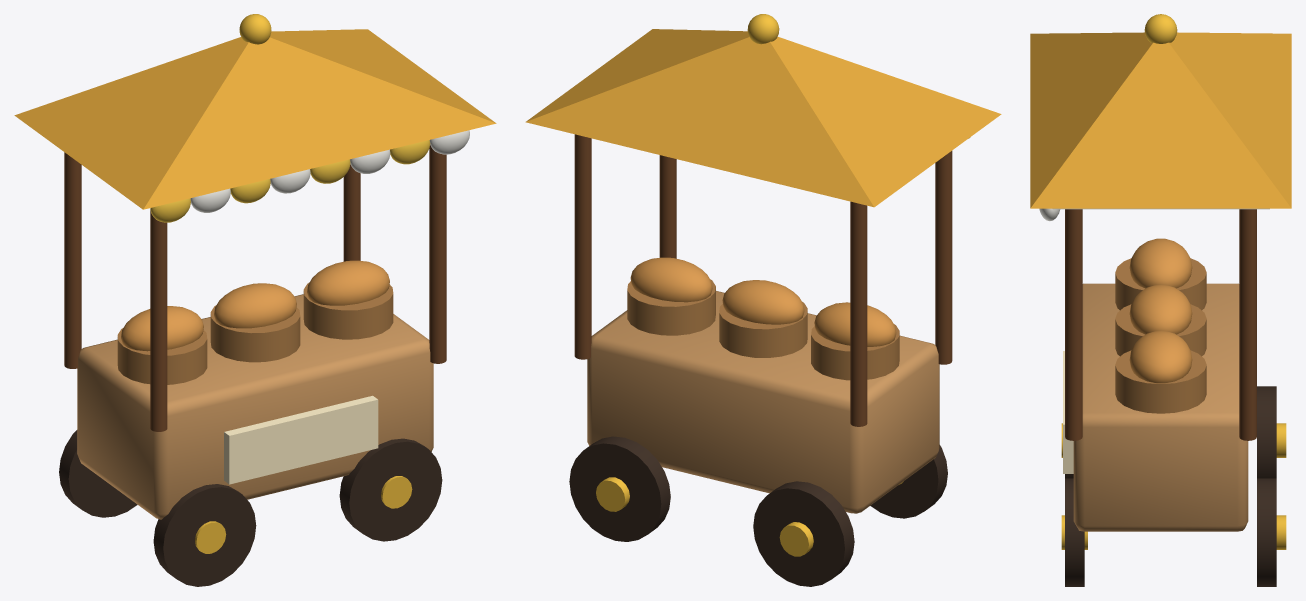
Rendered from Bakery_L10.fbx.
3 renders of one model, left to right at view 1: azimuth 30°, elevation 25°; view 2: azimuth 150°, elevation 25°; view 3: azimuth 270°, elevation 25°, orthographic. The views are drawn at different scales.
Visible parts, largest first — view 1: B10_Roof, B10_Body, B10_Wheel (×3), B10_Post (×4), B10_Basket (×3), B10_Sign, B10_Loaf (×3), B10_AwningScallop (×8), B10_Hub (×2), B10_RoofTop; view 2: B10_Roof, B10_Body, B10_Wheel (×3), B10_Post (×4), B10_Basket (×3), B10_Loaf (×3), B10_Hub (×2), B10_RoofTop; view 3: B10_Roof, B10_Body, B10_Post (×2), B10_Loaf (×3), B10_Basket (×3), B10_Wheel (×3), B10_RoofTop, B10_Hub (×2), B10_Sign, B10_Awning_6.
Boxes of the visible parts, x1,y1,x2,y2 form: B10_Roof: (14,29,496,209); B10_Body: (77,294,433,519); B10_Wheel (×3): (59,430,442,586); B10_Post (×4): (64,145,446,431); B10_Basket (×3): (117,282,393,384); B10_Sign: (224,395,378,484); B10_Loaf (×3): (121,260,389,351); B10_AwningScallop (×8): (150,130,469,222); B10_Hub (×2): (195,476,412,553); B10_RoofTop: (239,14,271,44); B10_Roof: (525,29,1001,207); B10_Body: (587,291,939,513); B10_Wheel (×3): (569,436,947,586); B10_Post (×4): (574,134,952,426); B10_Basket (×3): (627,279,899,380); B10_Loaf (×3): (630,257,896,346); B10_Hub (×2): (596,477,813,556); B10_RoofTop: (747,14,779,44); B10_Roof: (1030,32,1291,208); B10_Body: (1073,283,1248,531); B10_Post (×2): (1065,209,1256,440); B10_Loaf (×3): (1129,238,1192,383); B10_Basket (×3): (1115,258,1206,413); B10_Wheel (×3): (1065,386,1276,586); B10_RoofTop: (1144,14,1177,43); B10_Hub (×2): (1276,423,1286,549); B10_Sign: (1063,351,1073,473); B10_Awning_6: (1052,208,1269,209).
Bounding box in the file's own units: 38 × 52.7 × 24.
